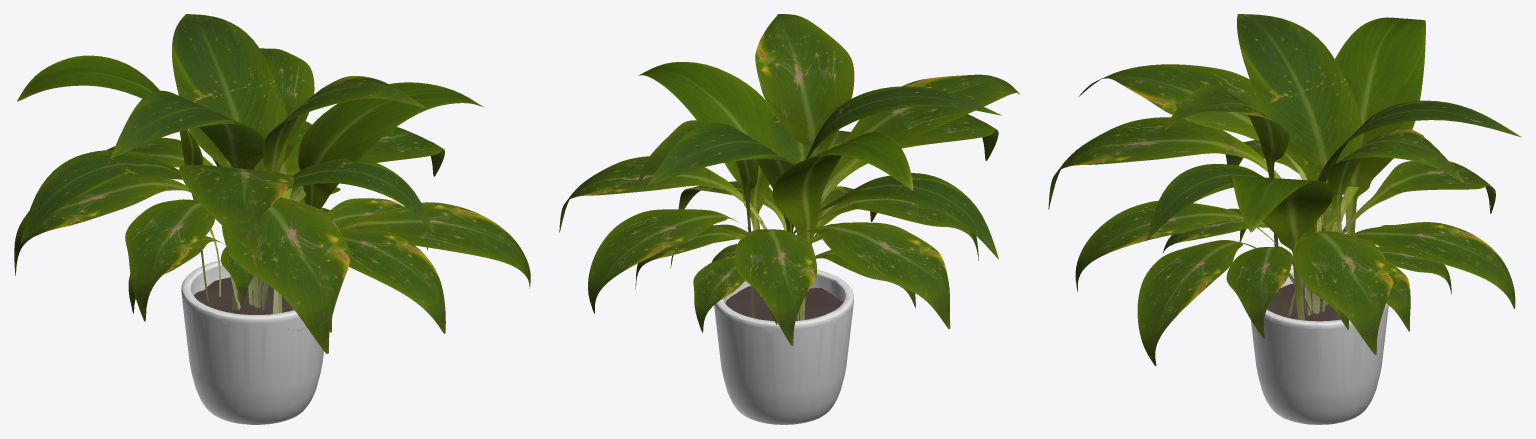
Rendered from plant1.glb.
3 views of the same model, side by side, from view 1: azimuth 30°, elevation 25°; view 2: azimuth 150°, elevation 25°; view 3: azimuth 270°, elevation 25° (orthographic). The views are drawn at different scales.
Visible parts, largest first — view 1: Plant1; view 2: Plant1; view 3: Plant1.
Part boxes in pixels (x1=…): Plant1: x1=14, y1=14, x2=530, y2=424; Plant1: x1=559, y1=14, x2=1019, y2=424; Plant1: x1=1048, y1=14, x2=1521, y2=424.
Size of the model in its own units: 0.5252 by 0.3949 by 0.5172.
Materials: 3 (1 with a texture image).
